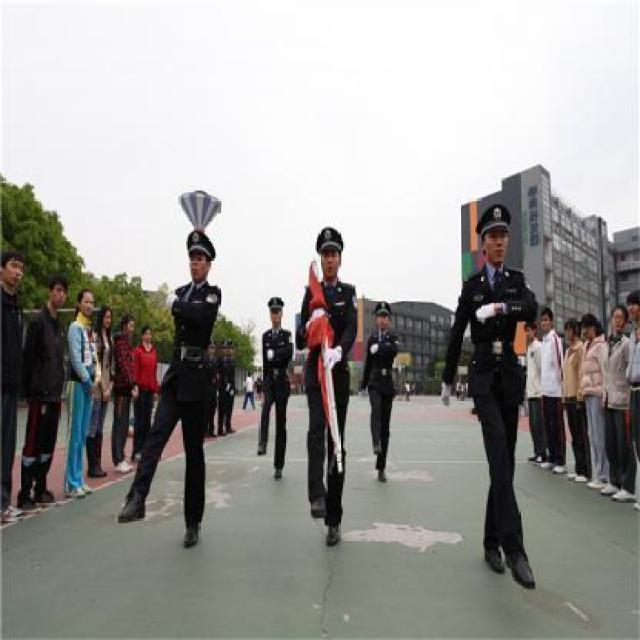face_nomask: (182, 255, 212, 283), (488, 232, 510, 268), (322, 242, 342, 280)
hand_glove: (323, 346, 345, 371), (474, 302, 498, 324), (437, 378, 449, 408), (163, 291, 179, 309), (266, 346, 276, 363), (369, 340, 378, 352)
hand_noglove: (131, 386, 138, 402), (102, 389, 110, 402), (577, 388, 585, 400), (88, 382, 97, 392), (600, 397, 605, 414), (562, 395, 566, 411), (576, 405, 582, 409)
person: (435, 199, 554, 603), (132, 229, 232, 546), (295, 224, 368, 542), (365, 295, 409, 488), (254, 296, 297, 476)
shoes: (109, 489, 154, 531), (501, 542, 539, 589), (173, 512, 210, 551), (318, 516, 345, 553), (306, 493, 328, 524), (268, 460, 287, 483), (253, 437, 270, 460)
